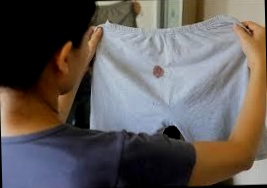blood: (152, 64, 166, 80)
